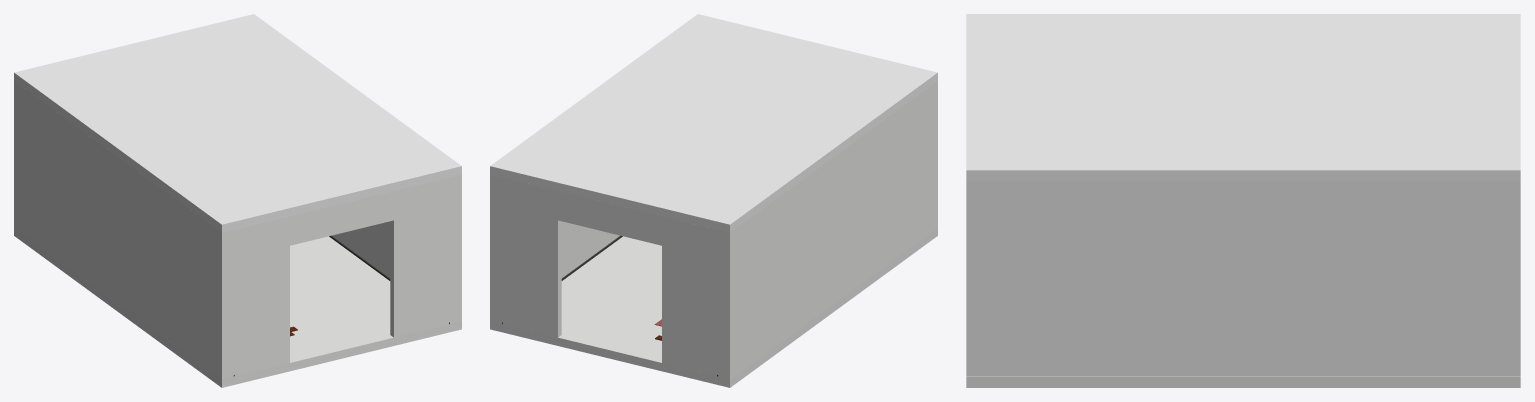
File: room_study_s3.glb
3 views of the same model, side by side, from view 1: azimuth 30°, elevation 25°; view 2: azimuth 150°, elevation 25°; view 3: azimuth 270°, elevation 25° (orthographic). The views are drawn at different scales.
Visible parts, largest first — view 1: room_study_s3_static; view 2: room_study_s3_static; view 3: room_study_s3_static.
Boxes of the visible parts, x1,y1,x2,y2 form: room_study_s3_static: (14,14,461,387); room_study_s3_static: (490,14,937,387); room_study_s3_static: (966,14,1520,387).
Size of the model in its own units: 6 by 3.9 by 9.
Materials: 15 (3 with a texture image).
